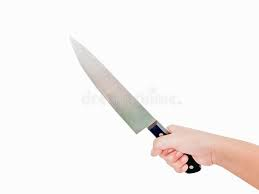weapon-unusual: (64, 32, 205, 176)
